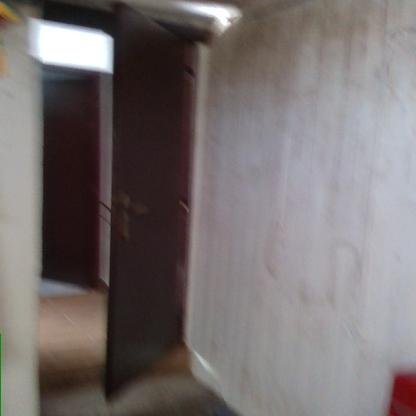semi: (24, 2, 212, 416)
